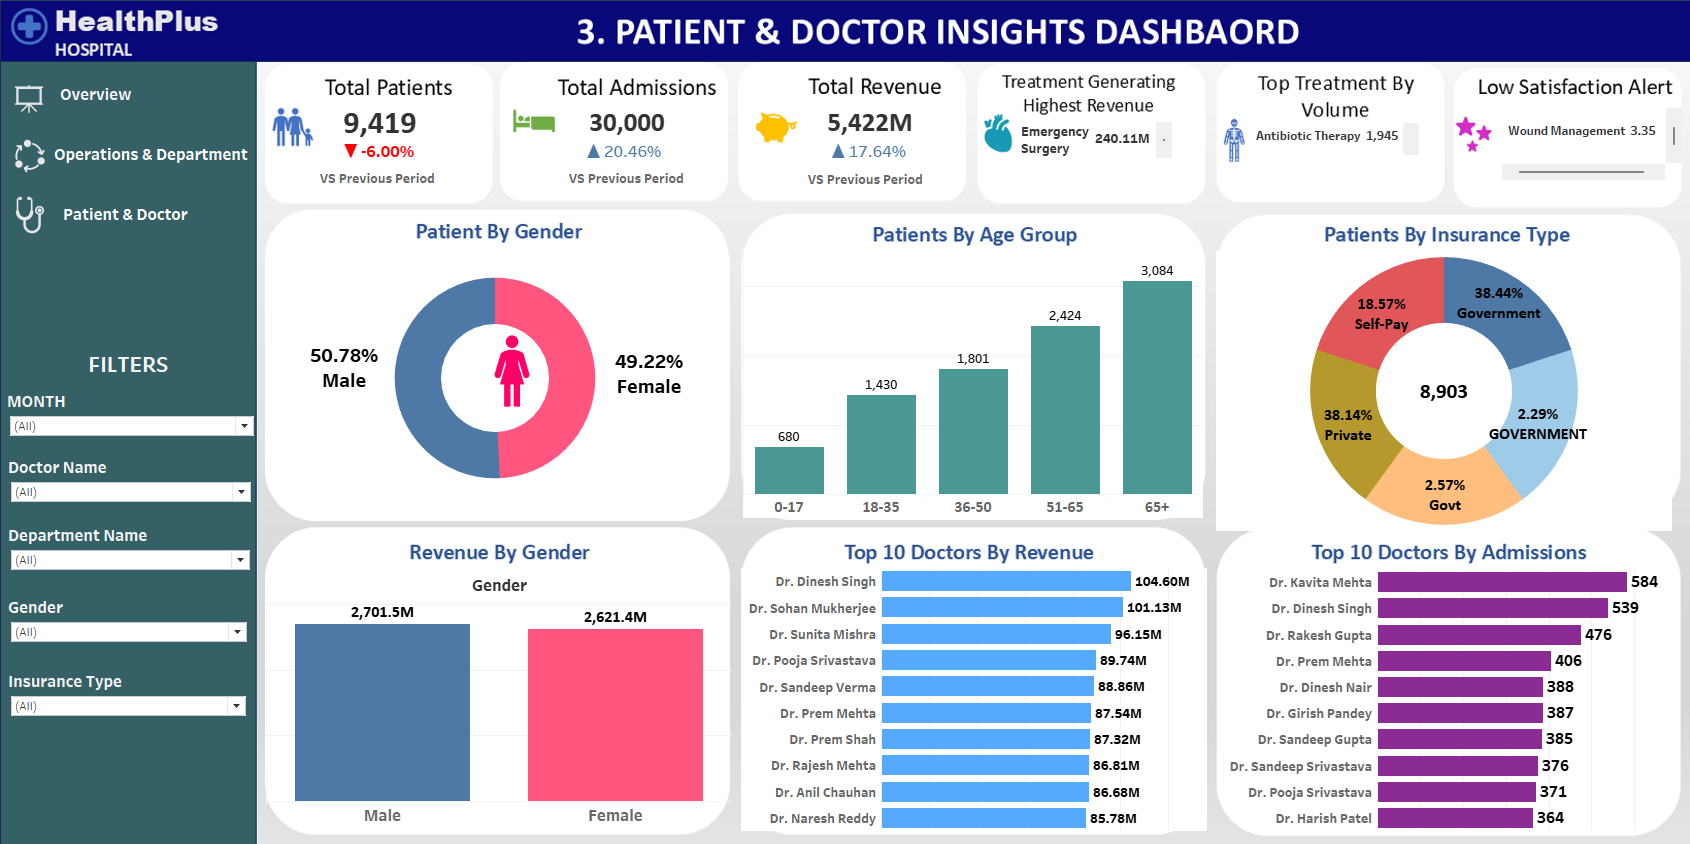

The dashboard page shown, as its layout file describes it:
{"tool":"tableau","page":{"name":"Patient & Doctor","canvas":[1709,856],"ordinal":2},"visuals":[{"type":"image","param":"Image/Presentation3.png","box":[0,0,1709,856]},{"type":"dashboard-object","box":[14,74,172,54]},{"type":"image","param":"Image/Picture1.svg","box":[14,88,38,36]},{"type":"worksheet","title":"Total Revenue","mark":"Automatic","box":[817,105,114,47]},{"type":"worksheet","title":"Total Admissions","mark":"Automatic","box":[564,107,134,43]},{"type":"worksheet","title":"Total Patients","mark":"Automatic","box":[309,110,150,40]},{"type":"worksheet","title":"Low Satisfaction Alert","mark":"Automatic","rows":["Treatment_Type"],"box":[1506,115,180,72]},{"type":"worksheet","title":"Treatment Generating Highest Rev","mark":"Automatic","rows":["Treatment_Type"],"box":[1019,129,178,36]},{"type":"worksheet","title":"Top Treatment By Vollume","mark":"Automatic","rows":["Treatment_Type"],"box":[1254,130,190,32]},{"type":"dashboard-object","box":[38,133,234,56]},{"type":"worksheet","title":"Total Admission Growth","mark":"Automatic","box":[579,135,98,46]},{"type":"image","param":"Image/Picture2.svg","box":[11,138,44,50]},{"type":"worksheet","title":"Patients Growth","mark":"Automatic","box":[330,139,106,38]},{"type":"worksheet","title":"Revenue Growth","mark":"Automatic","box":[820,139,101,37]},{"type":"text","box":[321,170,121,30]},{"type":"text","box":[570,170,121,30]},{"type":"text","box":[809,171,121,30]},{"type":"dashboard-object","box":[26,197,206,49]},{"type":"image","param":"Image/Picture3.svg","box":[14,202,40,41]},{"type":"worksheet","title":"Patients By Gender","mark":"Pie","rows":["Calculation_2025493941626970118","Calculation_2025493941626970118"],"box":[265,250,468,270]},{"type":"worksheet","title":"Patients By Insurance Type ","mark":"Pie","rows":["Calculation_2025493941634174987","Calculation_2025493941634174987"],"box":[1220,258,456,280]},{"type":"worksheet","title":"Patients By Age Group","mark":"Automatic","rows":["Patient_ID"],"cols":["Calculation_2025493941631164423"],"box":[747,260,460,265]},{"type":"image","param":"Image/Picture2 1.svg","box":[437,337,83,131]},{"type":"image","param":"Image/Picture1 1.svg","box":[478,340,76,84]},{"type":"text","box":[5,351,255,39]},{"type":"filter","title":"Total Patients","param":"[federated.0m1gyx91rqx2dw12bt20d0494kdl].[mn:Admission_Date:ok]","box":[11,397,250,51]},{"type":"filter","title":"Total Patients","param":"[federated.0m1gyx91rqx2dw12bt20d0494kdl].[none:Doctor_Name:nk]","box":[12,463,246,50]},{"type":"filter","title":"Total Patients","param":"[federated.0m1gyx91rqx2dw12bt20d0494kdl].[none:Department_Name:nk]","box":[12,531,245,49]},{"type":"worksheet","title":"Top 10 Doct By Rev","mark":"Automatic","rows":["Doctor_Name"],"cols":["Revenue"],"box":[745,575,466,263]},{"type":"worksheet","title":"Top 10 Doctor By Admission","mark":"Automatic","rows":["Doctor_Name"],"cols":["Admission_ID"],"box":[1221,576,458,262]},{"type":"worksheet","title":"Revenue By Gender","mark":"Automatic","rows":["Revenue"],"cols":["Gender"],"box":[270,582,466,252]},{"type":"filter","title":"Total Patients","param":"[federated.0m1gyx91rqx2dw12bt20d0494kdl].[none:Gender:nk]","box":[12,603,242,49]},{"type":"filter","title":"Total Patients","param":"[federated.0m1gyx91rqx2dw12bt20d0494kdl].[none:Insurance_Type:nk]","box":[12,677,241,49]}]}

Visuals, with their boxes in screenshot pixels (x1, y1, x2, y2), scaled from the page's 1709x856 canvas onto the 1690x844 screenshot:
image: select_region(0, 0, 1689, 843)
dashboard-object: select_region(14, 73, 184, 126)
image: select_region(14, 87, 51, 122)
"Total Revenue" worksheet: select_region(808, 104, 921, 150)
"Total Admissions" worksheet: select_region(558, 106, 690, 148)
"Total Patients" worksheet: select_region(306, 108, 454, 148)
"Low Satisfaction Alert" worksheet: select_region(1489, 113, 1667, 184)
"Treatment Generating Highest Rev" worksheet: select_region(1008, 127, 1184, 163)
"Top Treatment By Vollume" worksheet: select_region(1240, 128, 1428, 160)
dashboard-object: select_region(38, 131, 269, 186)
"Total Admission Growth" worksheet: select_region(573, 133, 669, 178)
image: select_region(11, 136, 54, 185)
"Patients Growth" worksheet: select_region(326, 137, 431, 175)
"Revenue Growth" worksheet: select_region(811, 137, 911, 174)
text: select_region(317, 168, 437, 197)
text: select_region(564, 168, 683, 197)
text: select_region(800, 169, 920, 198)
dashboard-object: select_region(26, 194, 229, 243)
image: select_region(14, 199, 53, 240)
"Patients By Gender" worksheet (Pie marks): select_region(262, 246, 725, 513)
"Patients By Insurance Type " worksheet (Pie marks): select_region(1206, 254, 1657, 530)
"Patients By Age Group" worksheet: select_region(739, 256, 1194, 518)
image: select_region(432, 332, 514, 461)
image: select_region(473, 335, 548, 418)
text: select_region(5, 346, 257, 385)
"Total Patients" filter: select_region(11, 391, 258, 442)
"Total Patients" filter: select_region(12, 457, 255, 506)
"Total Patients" filter: select_region(12, 524, 254, 572)
"Top 10 Doct By Rev" worksheet: select_region(737, 567, 1198, 826)
"Top 10 Doctor By Admission" worksheet: select_region(1207, 568, 1660, 826)
"Revenue By Gender" worksheet: select_region(267, 574, 728, 822)
"Total Patients" filter: select_region(12, 595, 251, 643)
"Total Patients" filter: select_region(12, 668, 250, 716)
